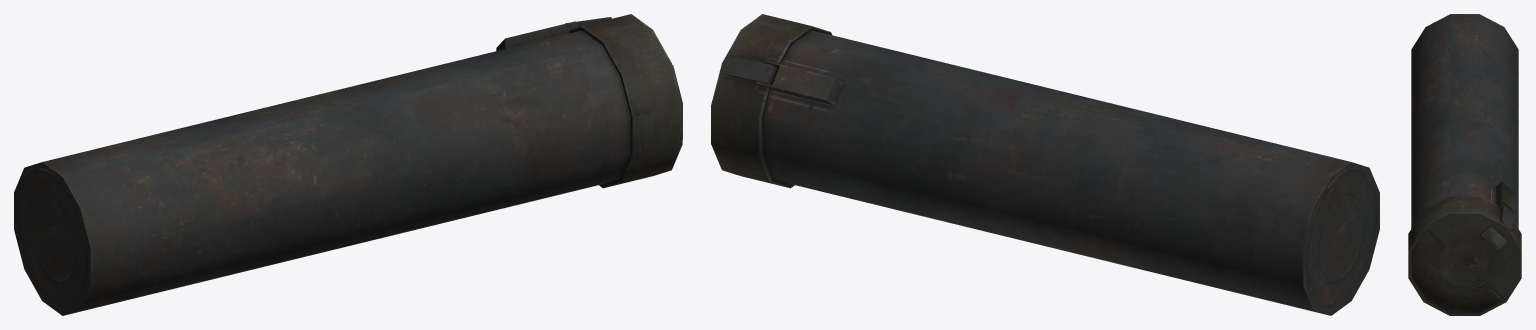
The model's file is VV_ArtyShellTube.fbx.
3 renders of one model, left to right at view 1: azimuth 30°, elevation 25°; view 2: azimuth 150°, elevation 25°; view 3: azimuth 270°, elevation 25°, orthographic. The views are drawn at different scales.
Parts seen in each view (by area): view 1: VV_ArtyShellTube; view 2: VV_ArtyShellTube; view 3: VV_ArtyShellTube.
Boxes of the visible parts, x1,y1,x2,y2 form: VV_ArtyShellTube: (14, 14, 682, 315); VV_ArtyShellTube: (711, 14, 1379, 315); VV_ArtyShellTube: (1408, 14, 1521, 315).
Bounding box in the file's own units: 140 × 32.92 × 32.92.
Materials: 1 (1 with a texture image).
